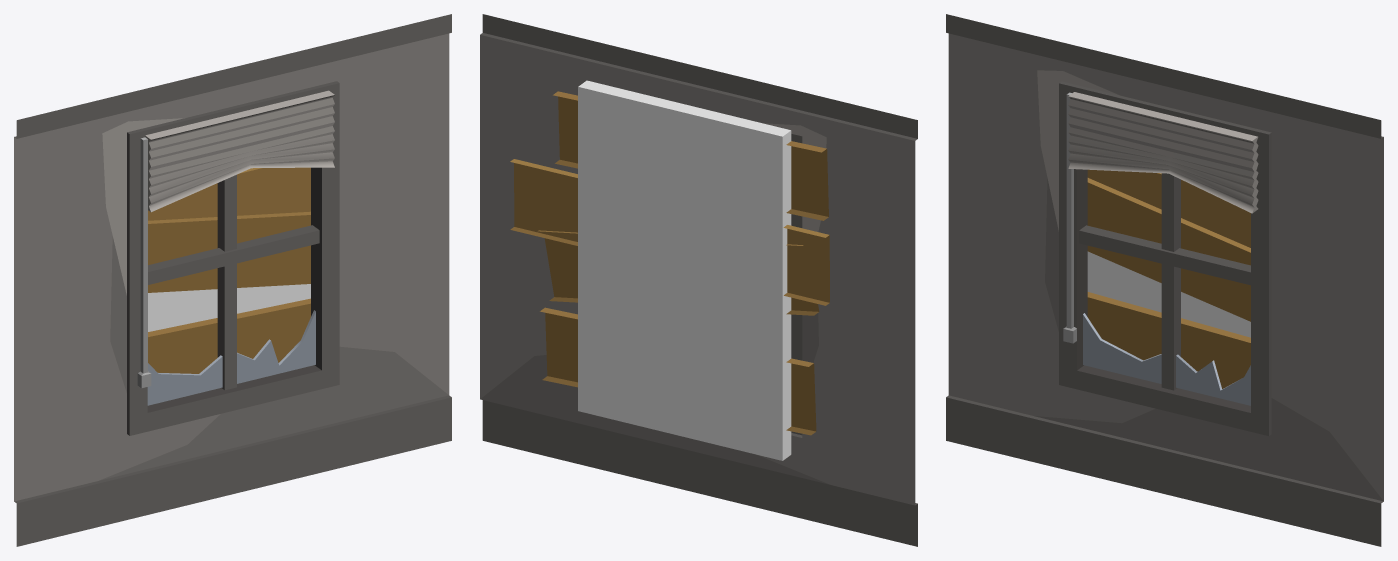
Rendered from AI_Env_Wall_Grey_Window_01_Blinds.fbx.
The picture shows the model from 3 angles, left to right: view 1: azimuth 30°, elevation 25°; view 2: azimuth 150°, elevation 25°; view 3: azimuth 330°, elevation 25°; orthographic projection.
Visible parts, largest first — view 1: AI_Env_Wall_Window_01_Blinds; view 2: AI_Env_Wall_Window_01_Blinds; view 3: AI_Env_Wall_Window_01_Blinds.
Boxes of the visible parts, box(x1,y1,x2,y2) form: AI_Env_Wall_Window_01_Blinds: box(14, 14, 451, 546); AI_Env_Wall_Window_01_Blinds: box(480, 14, 917, 546); AI_Env_Wall_Window_01_Blinds: box(946, 14, 1383, 546).
Size of the model in its own units: 5 by 4.69 by 0.5083.
